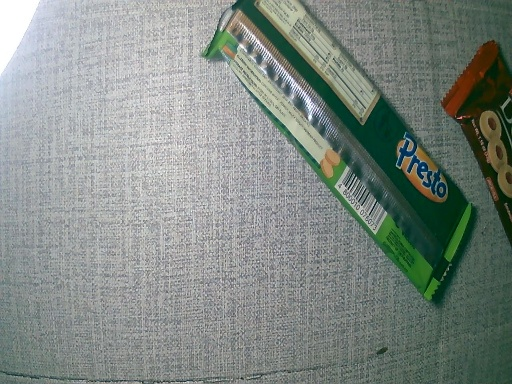plastic: (203, 1, 478, 313), (445, 38, 512, 238)
